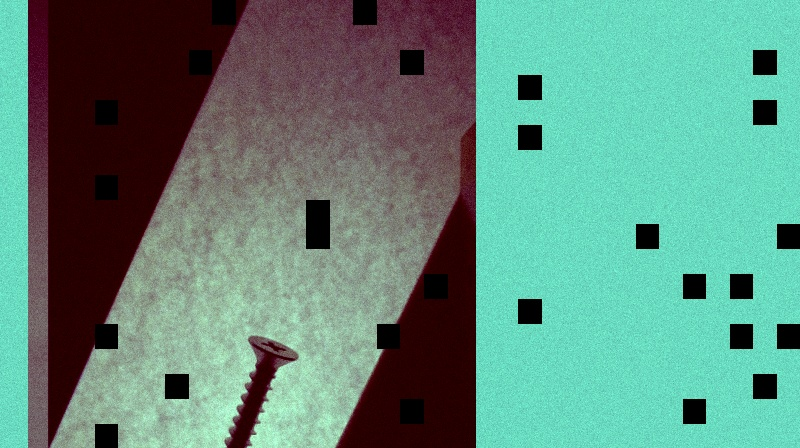S001: (210, 331, 300, 447)
